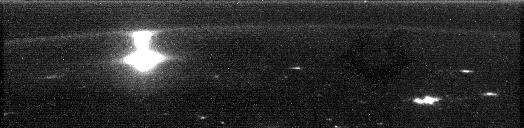positive: (128, 29, 156, 51)
